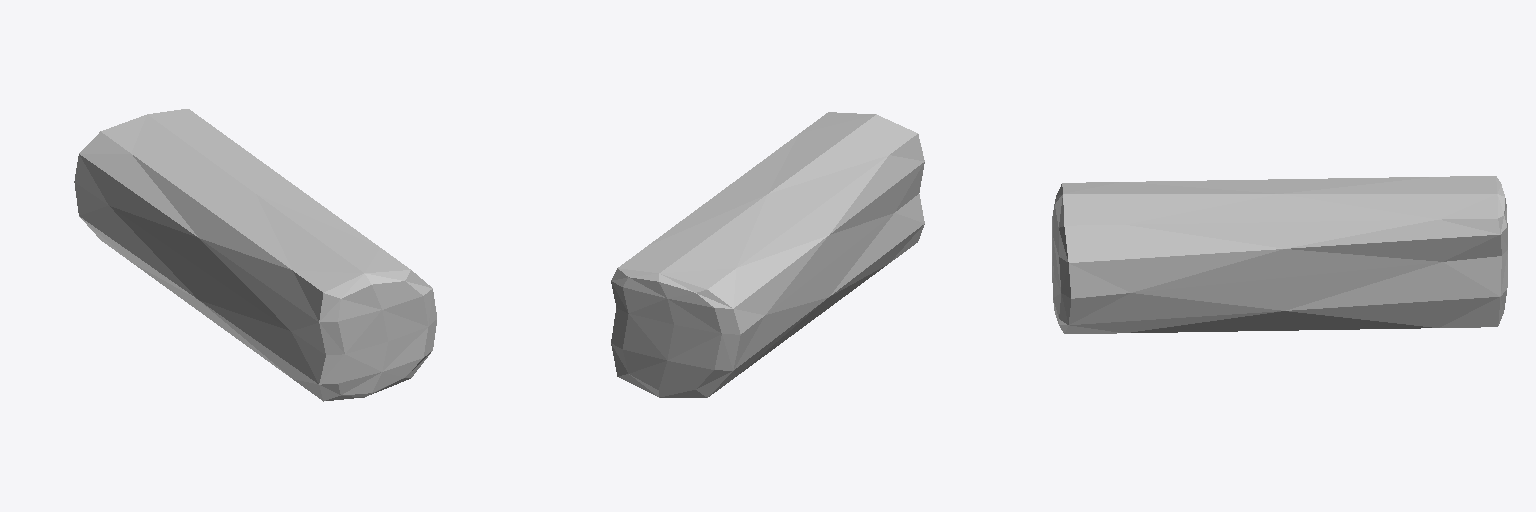
Rendered from log0.obj.
3 views of the same model, side by side, from view 1: azimuth 30°, elevation 25°; view 2: azimuth 150°, elevation 25°; view 3: azimuth 270°, elevation 25° (orthographic).
Parts seen in each view (by area): view 1: Cube; view 2: Cube; view 3: Cube.
Boxes of the visible parts, box(x1,y1,x2,y2) form: Cube: box(74, 109, 436, 401); Cube: box(611, 112, 924, 397); Cube: box(1052, 176, 1507, 333).
Size of the model in its own units: 0.7809 by 0.6 by 2.